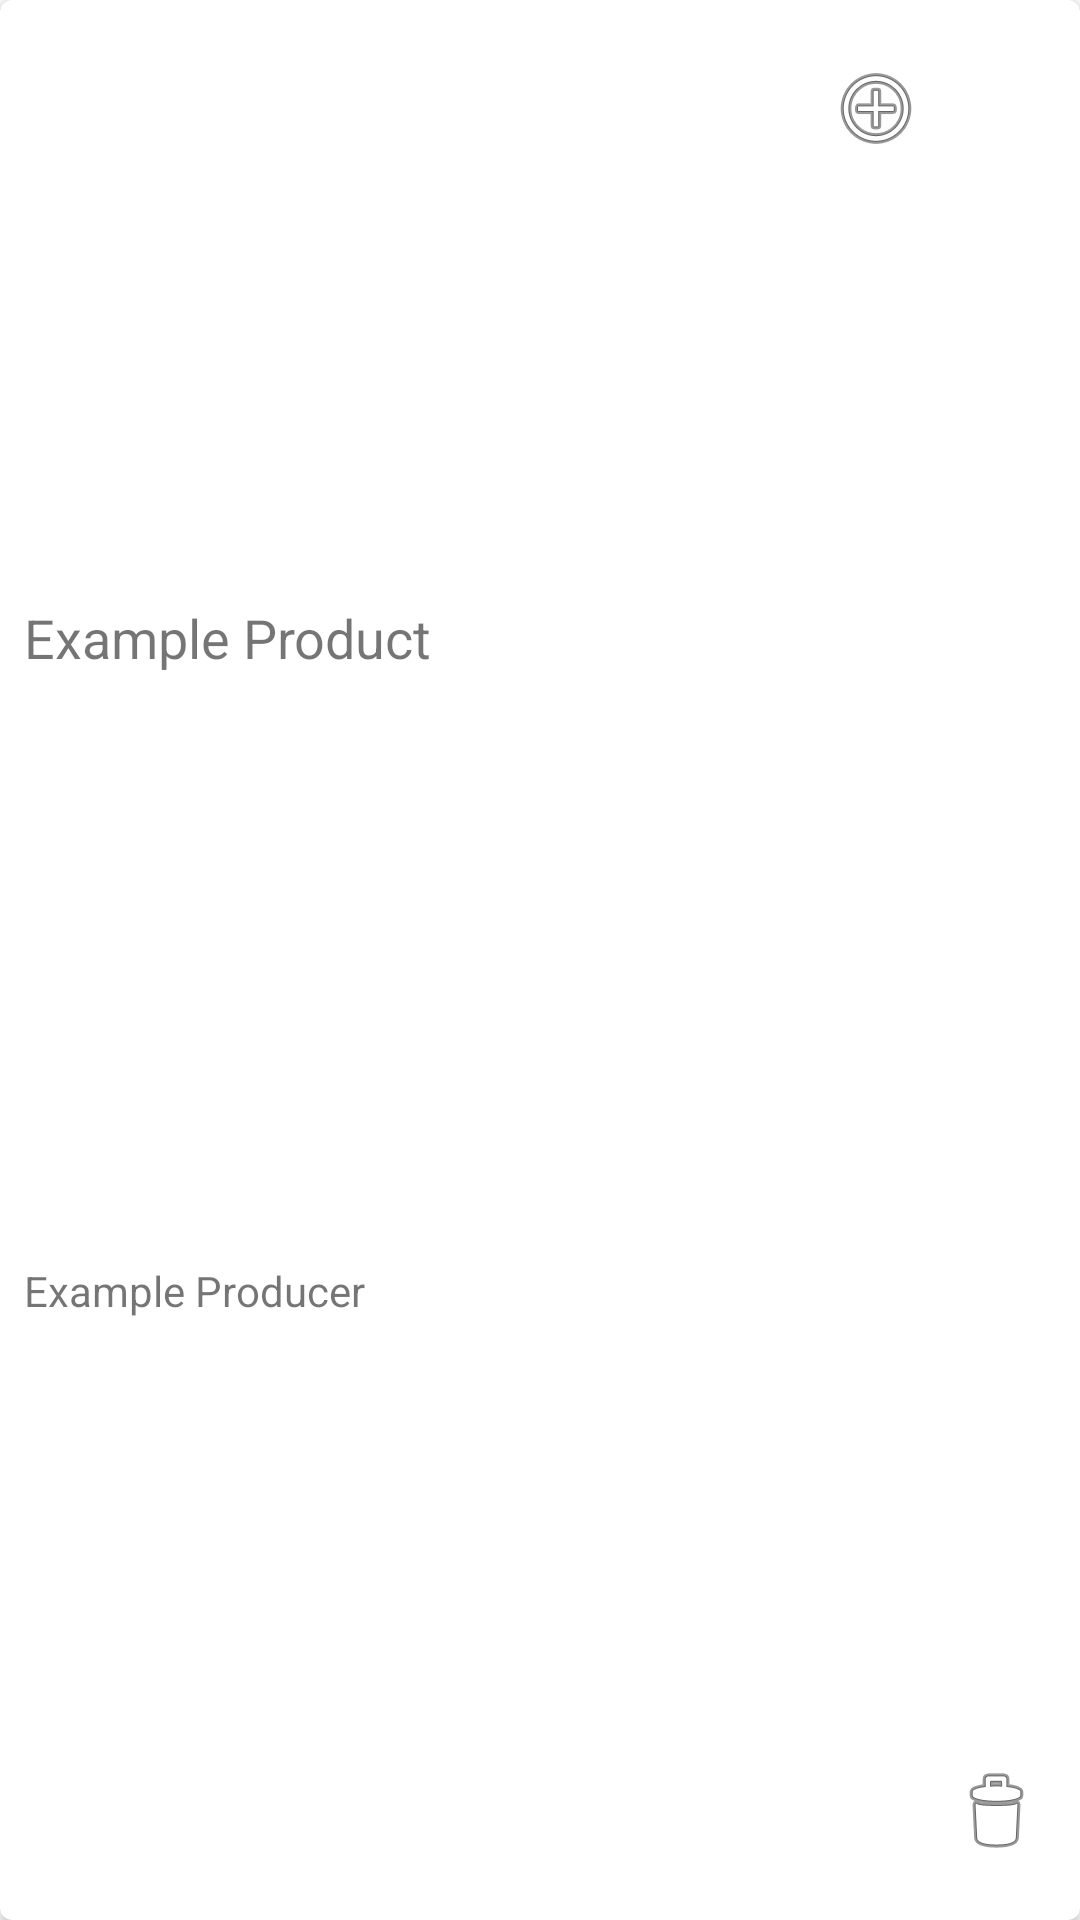

Named icons in this screenshot (1080x1920) and their bounding boxes, (x1, y1, x2, y2):
Add product sign: (840, 73, 912, 144)
Delete product sign: (969, 1773, 1024, 1848)
